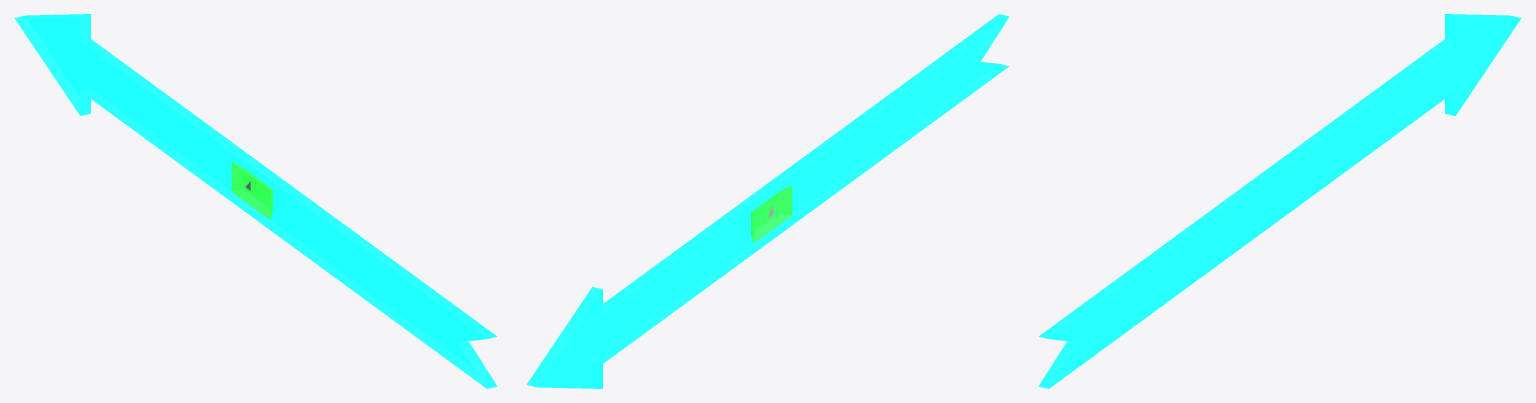
The model's file is skirt_neon_arrows.glb.
3 views of the same model, side by side, from view 1: azimuth 30°, elevation 25°; view 2: azimuth 150°, elevation 25°; view 3: azimuth 330°, elevation 25° (orthographic).
Visible parts, largest first — view 1: MOTIF_arrow_neon, MOTIF_marker_led; view 2: MOTIF_arrow_neon, MOTIF_marker_led; view 3: MOTIF_arrow_neon.
Boxes of the visible parts, left/top/right/bottom form: MOTIF_arrow_neon: left=14, top=14, right=497, bottom=388; MOTIF_marker_led: left=231, top=162, right=272, bottom=219; MOTIF_arrow_neon: left=526, top=14, right=1009, bottom=388; MOTIF_marker_led: left=751, top=186, right=792, bottom=242; MOTIF_arrow_neon: left=1038, top=14, right=1521, bottom=388.
Bounding box in the file's own units: 0.011 × 0.1 × 0.86.
